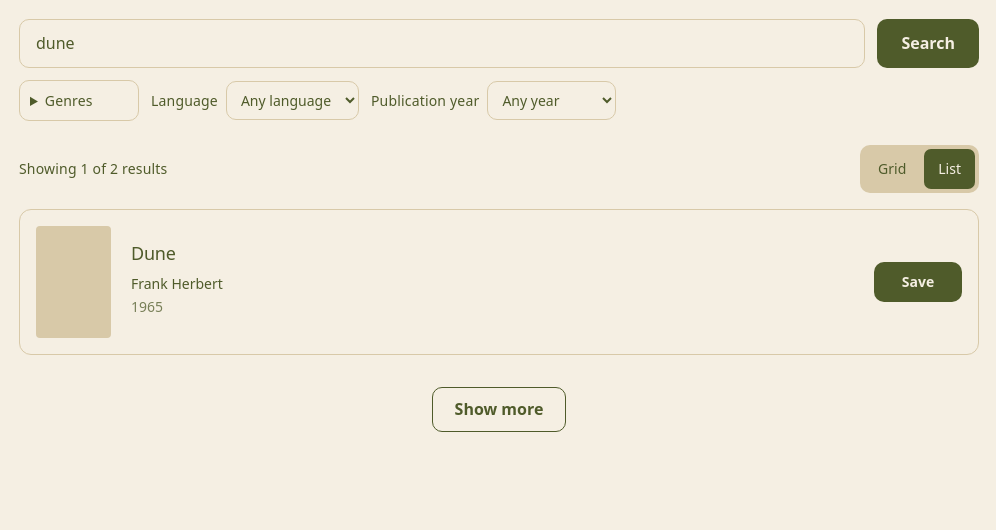
it: SearchPage › more results › starts over for a new search
The width and height of the screenshot is (996, 530).
Click the button "Show more" at [499, 409], box [432,387,566,432]
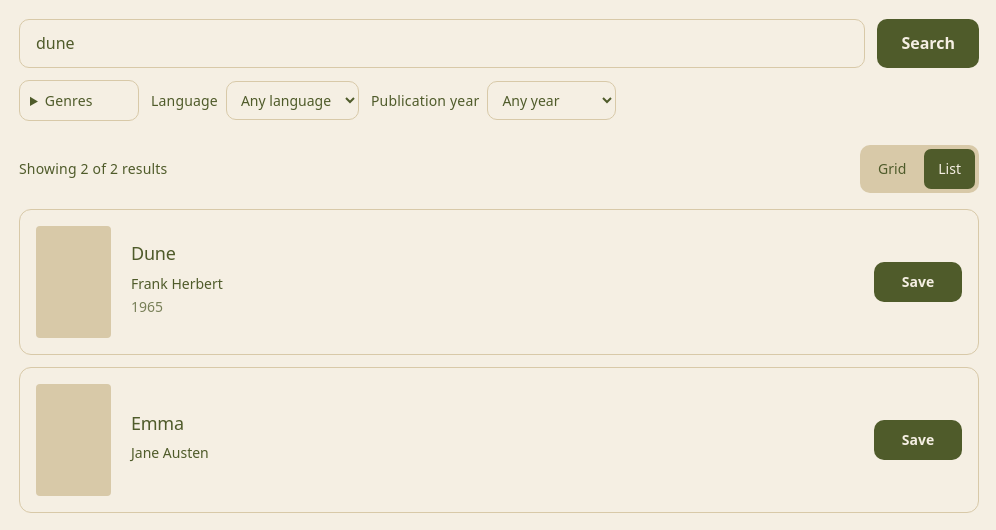
Expected: the text "Showing 2 of 2 results" is shown, [19,157,167,181]
Replace the text in the dropdown named "Search by title or author" with "emma" at [442, 44], box [19,19,865,68]
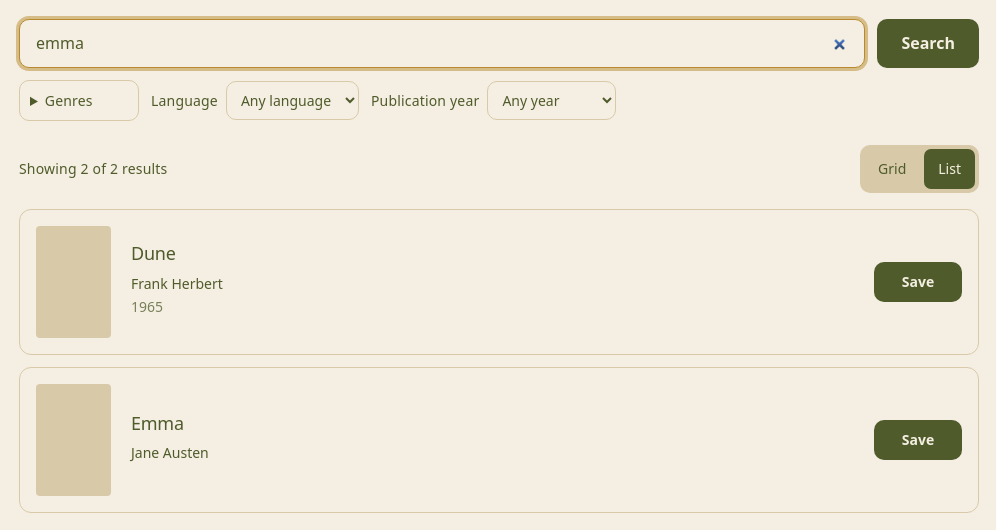
Click the button "Search" at [928, 44], box [877,19,979,68]
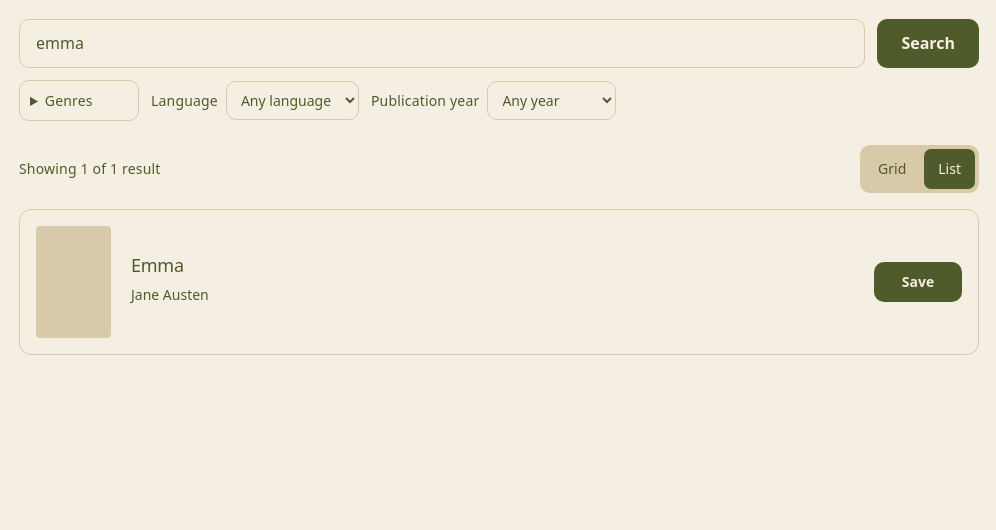
Expected: the text "Showing 1 of 1 result" is shown, [19,157,160,181]
